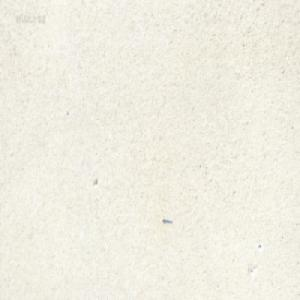Nail: (162, 216, 172, 224)
